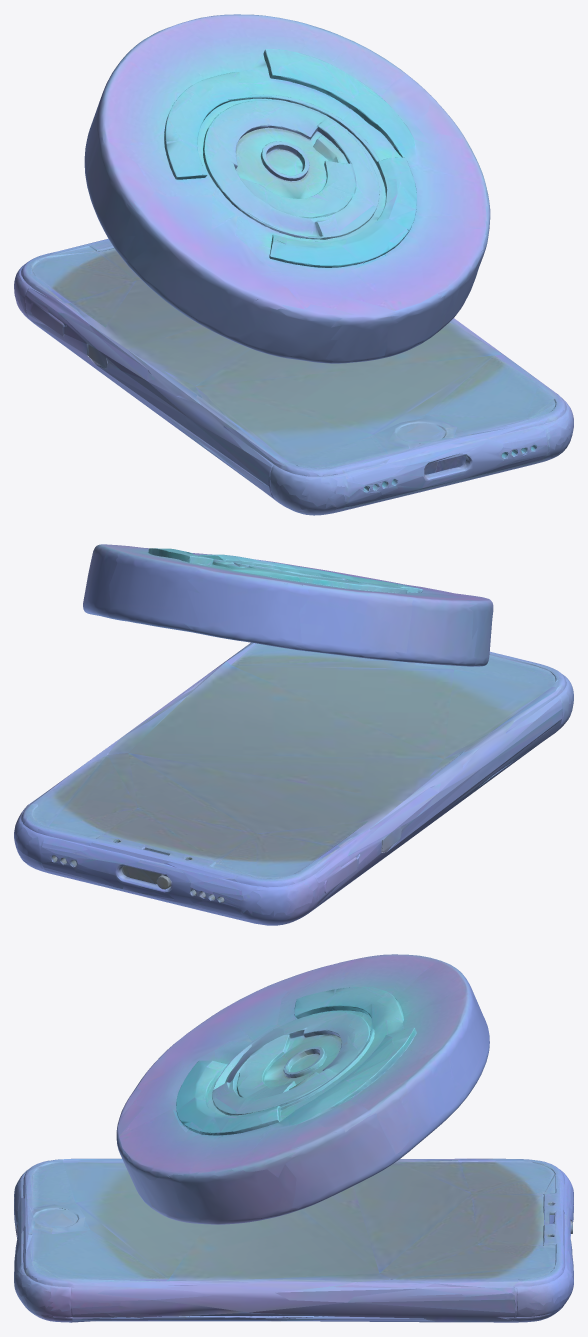
Rendered from phone.glb.
The picture shows the model from 3 angles, top to bottom: view 1: azimuth 30°, elevation 25°; view 2: azimuth 150°, elevation 25°; view 3: azimuth 270°, elevation 25°; orthographic projection. The views are drawn at different scales.
Bounding box in the file's own units: 1.25 × 1.03 × 1.9.
Materials: 1 (1 with a texture image).
